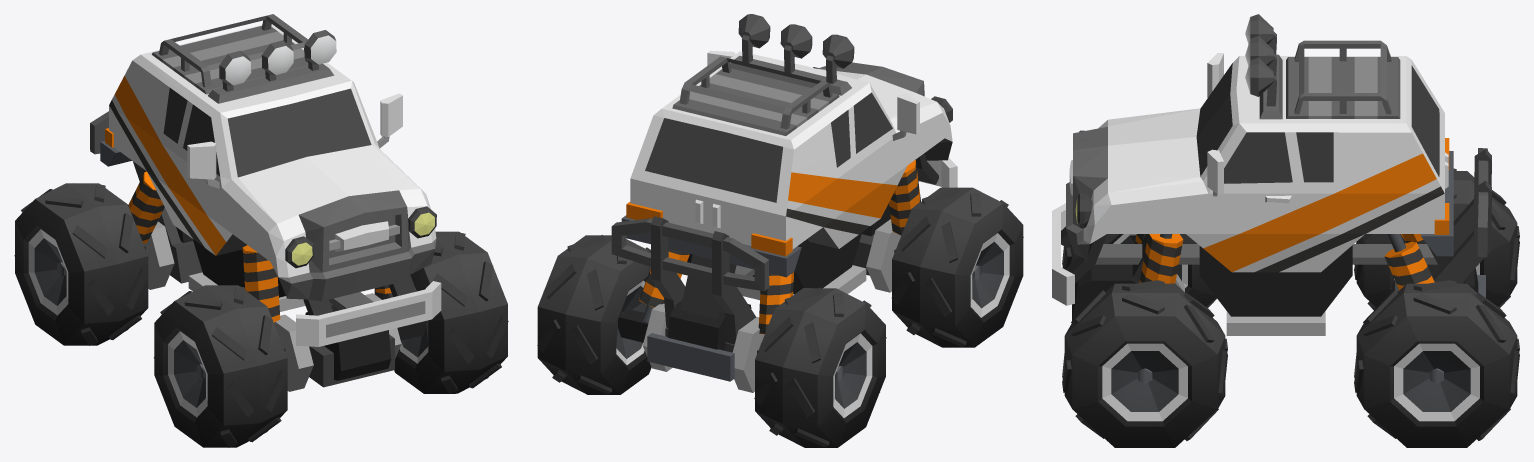
The model's file is head_SP3_1.fbx.
The picture shows the model from 3 angles, left to right: view 1: azimuth 30°, elevation 25°; view 2: azimuth 150°, elevation 25°; view 3: azimuth 270°, elevation 25°; orthographic projection. The views are drawn at different scales.
Parts seen in each view (by area): view 1: head_SP3_1; view 2: head_SP3_1; view 3: head_SP3_1.
Part boxes in pixels (x1,y1,x2,y2): head_SP3_1: (14, 14, 508, 447); head_SP3_1: (537, 14, 1023, 447); head_SP3_1: (1052, 14, 1519, 447).
Bounding box in the file's own units: 2142 × 2300 × 2841.
